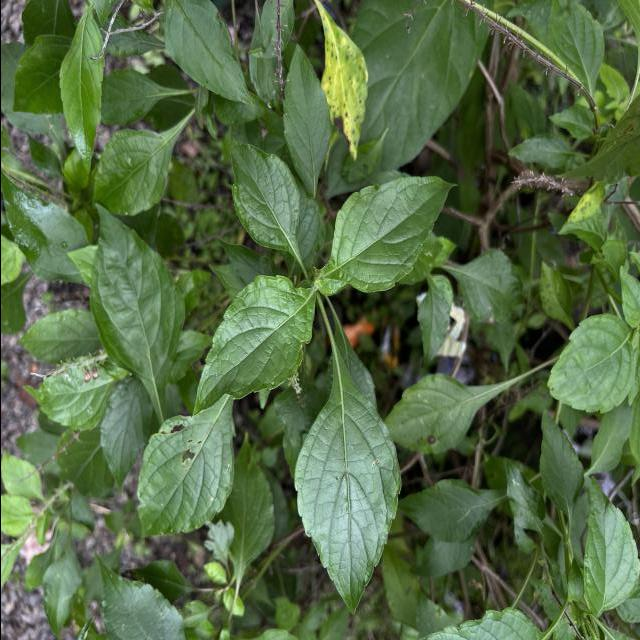Ocimum gratissimum: (290, 345, 404, 618), (84, 199, 188, 415), (187, 272, 317, 422), (315, 172, 459, 298), (133, 393, 239, 548), (158, 0, 258, 109), (224, 136, 302, 267), (572, 472, 640, 620), (544, 310, 634, 416), (54, 4, 108, 180), (281, 42, 335, 202)
